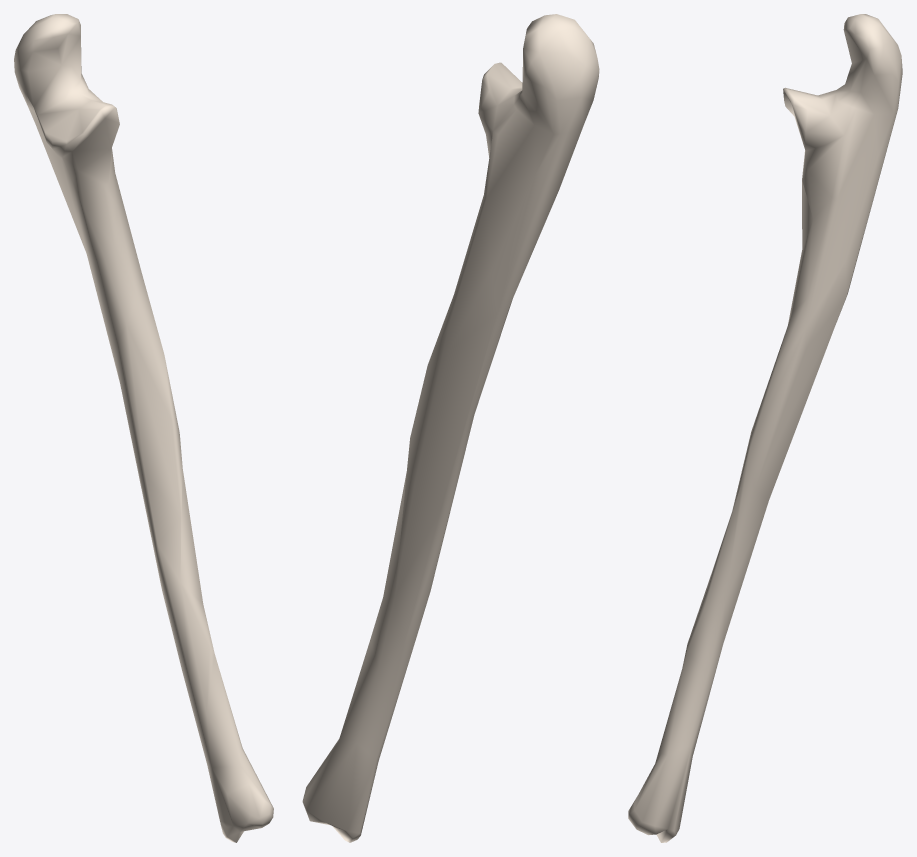
File: left_ulna.glb
3 views of the same model, side by side, from view 1: azimuth 30°, elevation 25°; view 2: azimuth 210°, elevation 25°; view 3: azimuth 270°, elevation 25° (orthographic). The views are drawn at different scales.
Visible parts, largest first — view 1: Ulna.r; view 2: Ulna.r; view 3: Ulna.r.
Part boxes in pixels (x1,y1,x2,y2): Ulna.r: (14, 14, 273, 842); Ulna.r: (302, 14, 599, 842); Ulna.r: (628, 14, 902, 842).
Bounding box in the file's own units: 0.0512 × 0.2616 × 0.0828.
